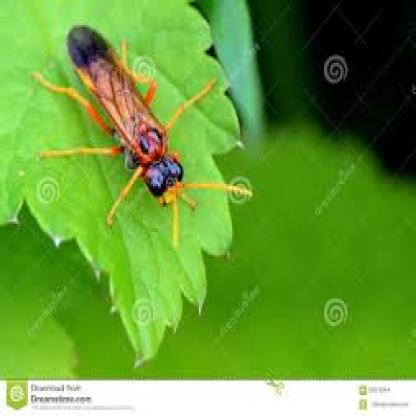sawfly: (33, 22, 256, 239)
